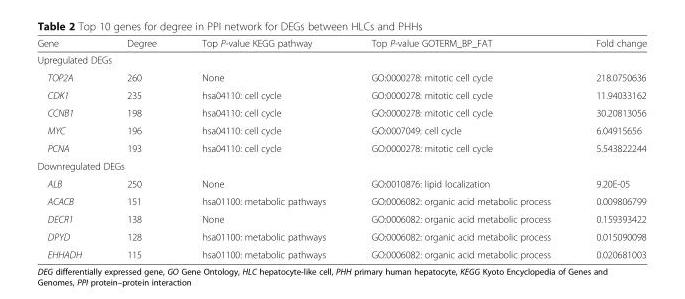table: (36, 37, 646, 259)
table column: (347, 37, 572, 259), (178, 37, 347, 259), (103, 37, 178, 259), (572, 37, 646, 259), (36, 37, 103, 259)
table column header: (36, 37, 646, 51)
table projected row header: (36, 156, 646, 174), (36, 51, 646, 68)
table row: (36, 85, 646, 103), (36, 103, 646, 121), (36, 121, 646, 139), (36, 156, 646, 174), (36, 174, 646, 192), (36, 209, 646, 227), (36, 227, 646, 245), (36, 51, 646, 68), (36, 68, 646, 85), (36, 139, 646, 156), (36, 192, 646, 209), (36, 37, 646, 51), (36, 245, 646, 259)
